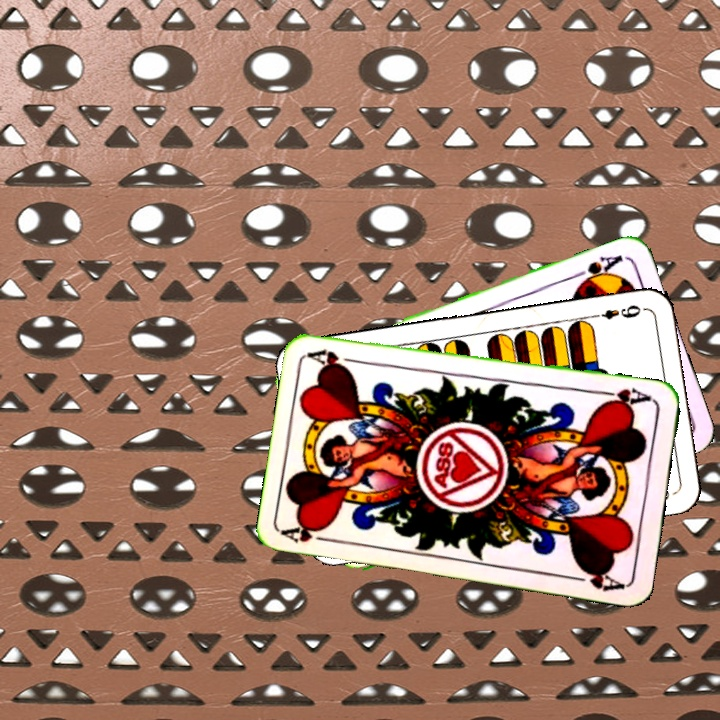E9: (587, 301, 644, 322)
HA: (596, 383, 655, 411), (280, 519, 340, 545)
SA: (570, 250, 626, 289)
